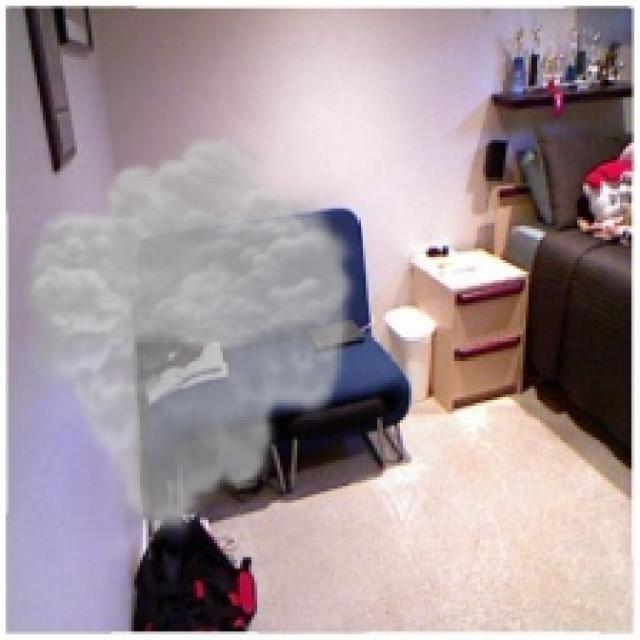Smoke: (14, 131, 363, 540)
